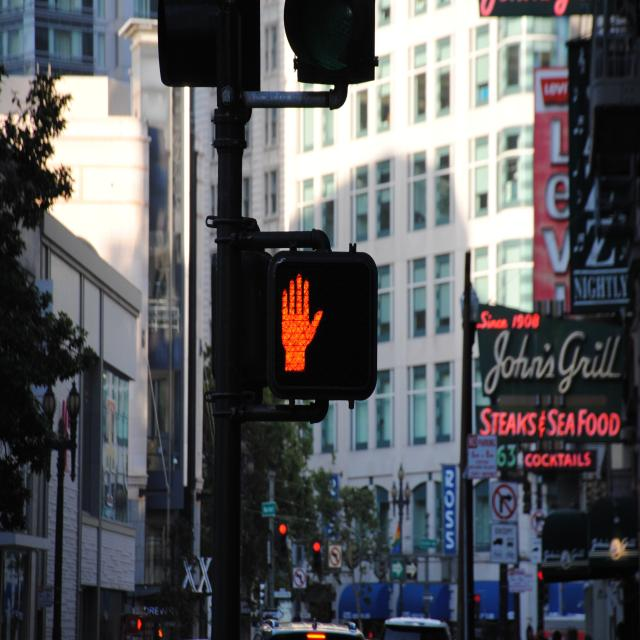Metal: (159, 0, 377, 637), (40, 383, 81, 640)
